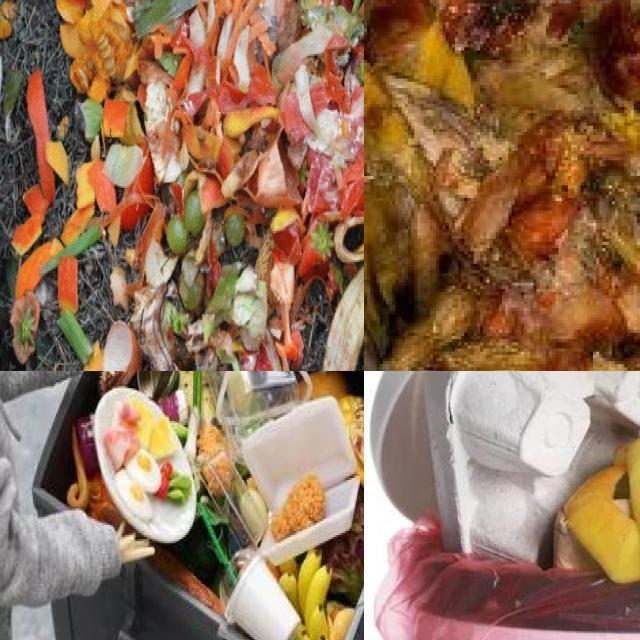Disposable: (241, 397, 360, 563), (94, 387, 194, 541), (226, 555, 301, 640), (169, 437, 191, 475)
Garbage: (364, 0, 640, 371), (36, 371, 364, 640), (373, 371, 640, 582)
Metal: (137, 371, 177, 402)
Plastic: (226, 371, 261, 416)
Plastic_Container: (217, 371, 310, 441)
contaminated_waste: (427, 371, 640, 562), (206, 371, 313, 450), (220, 552, 300, 640)
